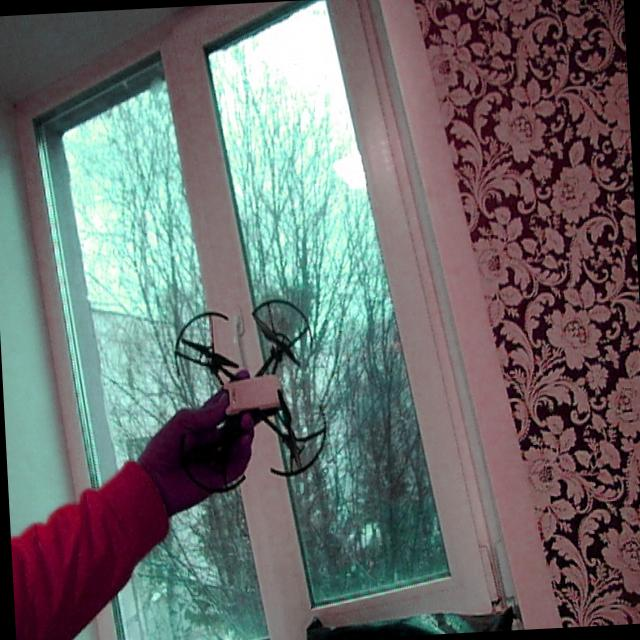drone: (163, 294, 339, 490)
